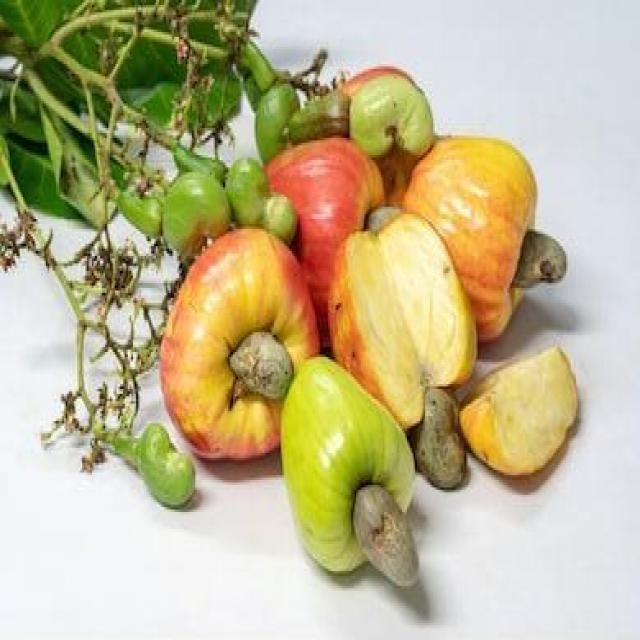Cashew: (227, 304, 304, 449), (355, 465, 422, 603), (355, 65, 450, 160), (417, 371, 465, 503), (512, 197, 566, 296)
